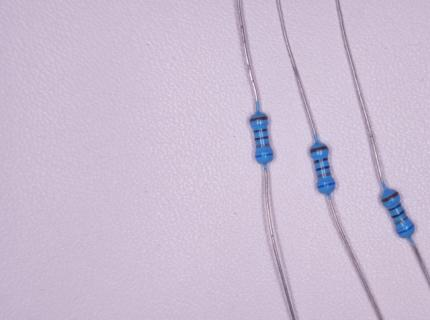Blue band: (397, 223, 414, 235), (318, 182, 335, 189), (255, 153, 273, 158)
Grey band: (395, 216, 408, 226), (317, 172, 331, 178), (256, 144, 270, 148)
